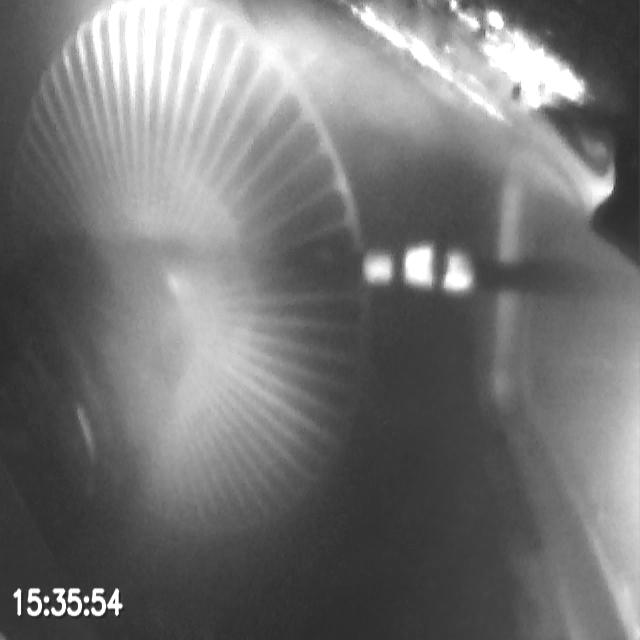white-dots: (361, 242, 474, 294)
